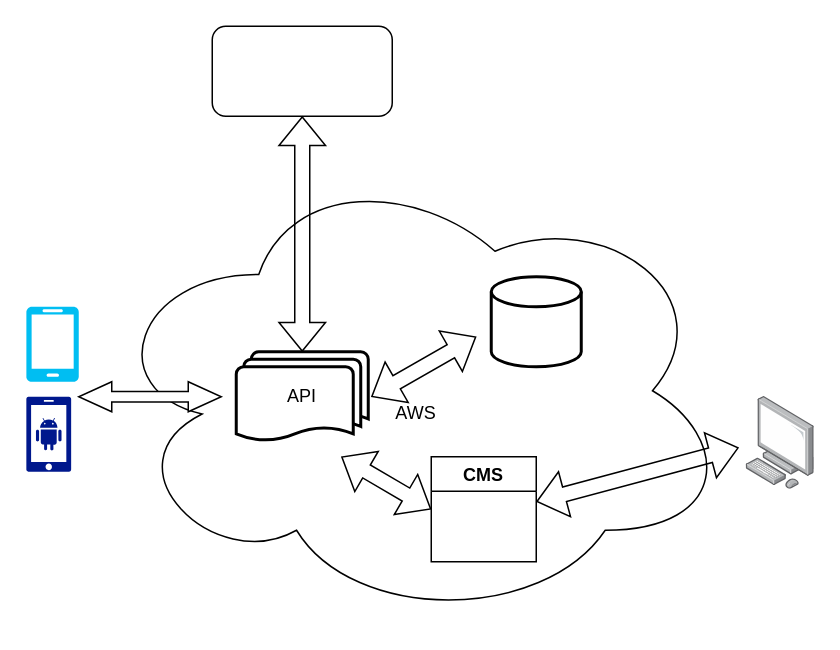
This 840x650 diagram has some shape labels left out. Here are the shapes that lost their labels. From the top down, the centre of each, then its label:
At (x=301, y=70): "SAP API".
At (x=535, y=321): "DB".
